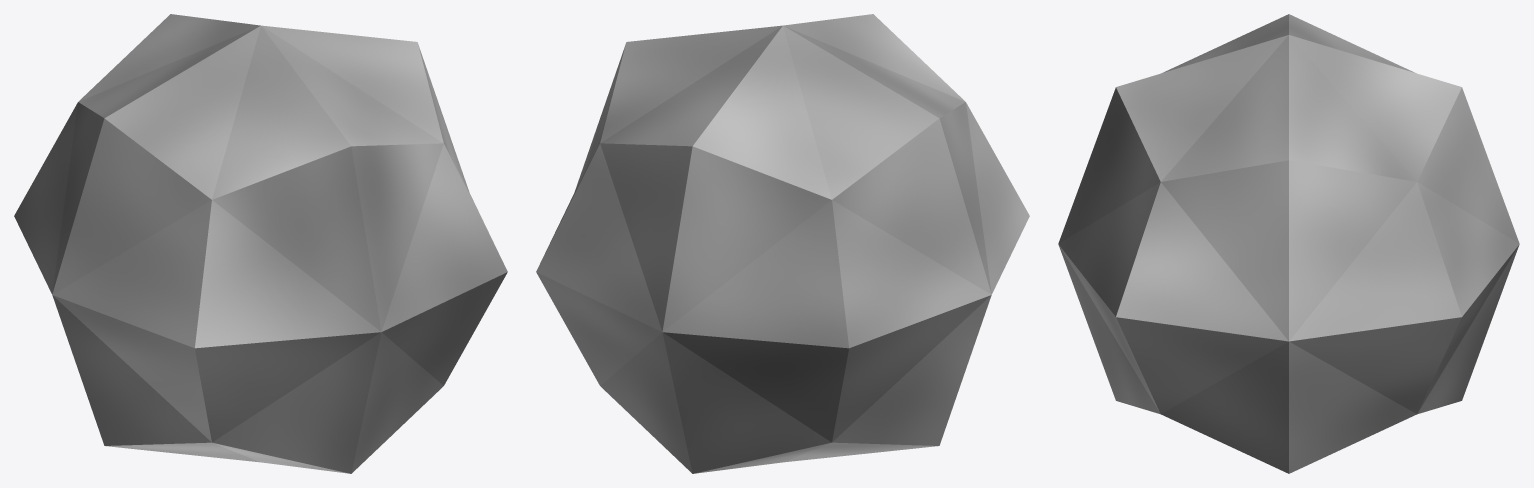
File: sample.dae
3 renders of one model, left to right at view 1: azimuth 30°, elevation 25°; view 2: azimuth 150°, elevation 25°; view 3: azimuth 270°, elevation 25°, orthographic. The views are drawn at different scales.
Parts seen in each view (by area): view 1: Cube; view 2: Cube; view 3: Cube.
Part boxes in pixels (left/top/right/bottom): Cube: left=14, top=14, right=507, bottom=473; Cube: left=536, top=14, right=1029, bottom=473; Cube: left=1058, top=14, right=1519, bottom=473.
Bounding box in the file's own units: 2 × 2 × 2.
1 material, 1 textured.
